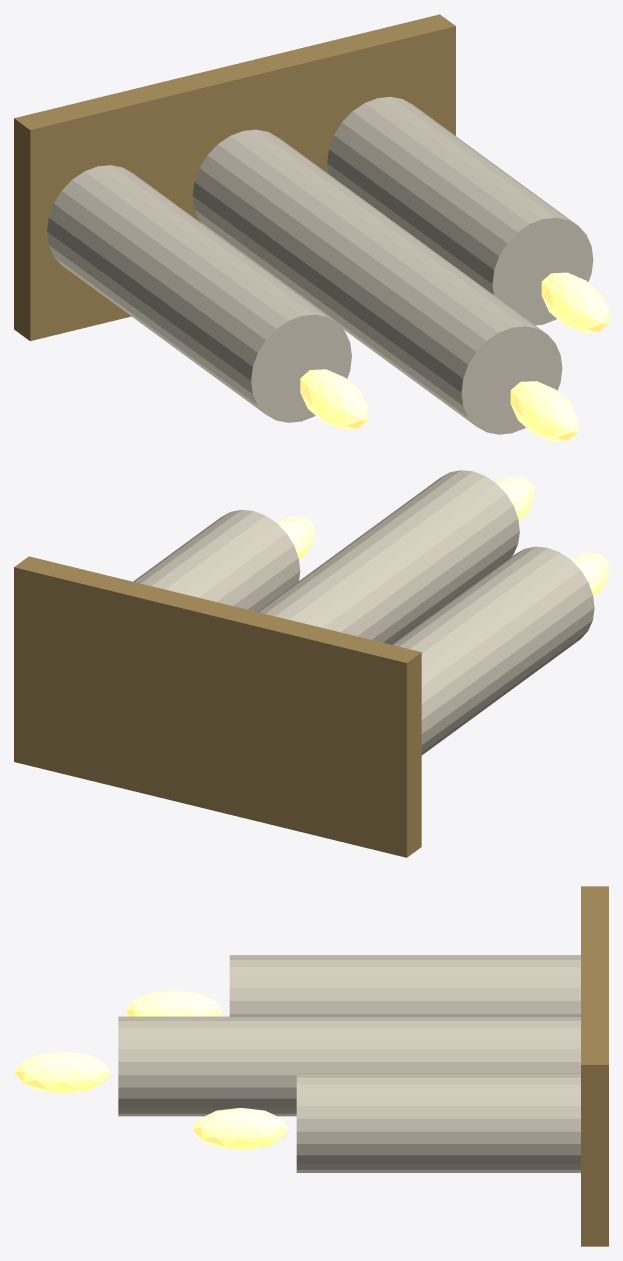
Rendered from prop_bottom_candle_set.glb.
The picture shows the model from 3 angles, top to bottom: view 1: azimuth 30°, elevation 25°; view 2: azimuth 150°, elevation 25°; view 3: azimuth 270°, elevation 25°; orthographic projection. The views are drawn at different scales.
Visible parts, largest first — view 1: prop_bottom_candle_set_thin_brass_tray, prop_bottom_candle_set_candle_2_wax, prop_bottom_candle_set_candle_1_wax, prop_bottom_candle_set_candle_3_wax, prop_bottom_candle_set_candle_1_flame, prop_bottom_candle_set_candle_2_flame, prop_bottom_candle_set_candle_3_flame; view 2: prop_bottom_candle_set_thin_brass_tray, prop_bottom_candle_set_candle_2_wax, prop_bottom_candle_set_candle_1_wax, prop_bottom_candle_set_candle_3_wax, prop_bottom_candle_set_candle_2_flame, prop_bottom_candle_set_candle_1_flame, prop_bottom_candle_set_candle_3_flame; view 3: prop_bottom_candle_set_candle_2_wax, prop_bottom_candle_set_candle_3_wax, prop_bottom_candle_set_candle_1_wax, prop_bottom_candle_set_thin_brass_tray, prop_bottom_candle_set_candle_2_flame, prop_bottom_candle_set_candle_3_flame, prop_bottom_candle_set_candle_1_flame.
Part boxes in pixels (x1,y1,x2,y2): prop_bottom_candle_set_thin_brass_tray: (14,14,455,341); prop_bottom_candle_set_candle_2_wax: (192,129,562,434); prop_bottom_candle_set_candle_1_wax: (47,165,351,422); prop_bottom_candle_set_candle_3_wax: (327,96,593,325); prop_bottom_candle_set_candle_1_flame: (300,369,367,429); prop_bottom_candle_set_candle_2_flame: (510,381,577,441); prop_bottom_candle_set_candle_3_flame: (541,272,608,332); prop_bottom_candle_set_thin_brass_tray: (14,556,421,857); prop_bottom_candle_set_candle_2_wax: (257,470,519,644); prop_bottom_candle_set_candle_1_wax: (391,546,594,755); prop_bottom_candle_set_candle_3_wax: (133,509,300,611); prop_bottom_candle_set_candle_2_flame: (496,477,534,520); prop_bottom_candle_set_candle_1_flame: (571,553,608,596); prop_bottom_candle_set_candle_3_flame: (276,516,314,559); prop_bottom_candle_set_candle_2_wax: (118,1016,580,1116); prop_bottom_candle_set_candle_3_wax: (296,1073,580,1172); prop_bottom_candle_set_candle_1_wax: (229,955,580,1016); prop_bottom_candle_set_thin_brass_tray: (581,886,608,1246); prop_bottom_candle_set_candle_2_flame: (14,1051,111,1093); prop_bottom_candle_set_candle_3_flame: (192,1108,289,1150); prop_bottom_candle_set_candle_1_flame: (125,990,222,1016).
Size of the model in its own units: 0.3116 by 0.1476 by 0.4381.
